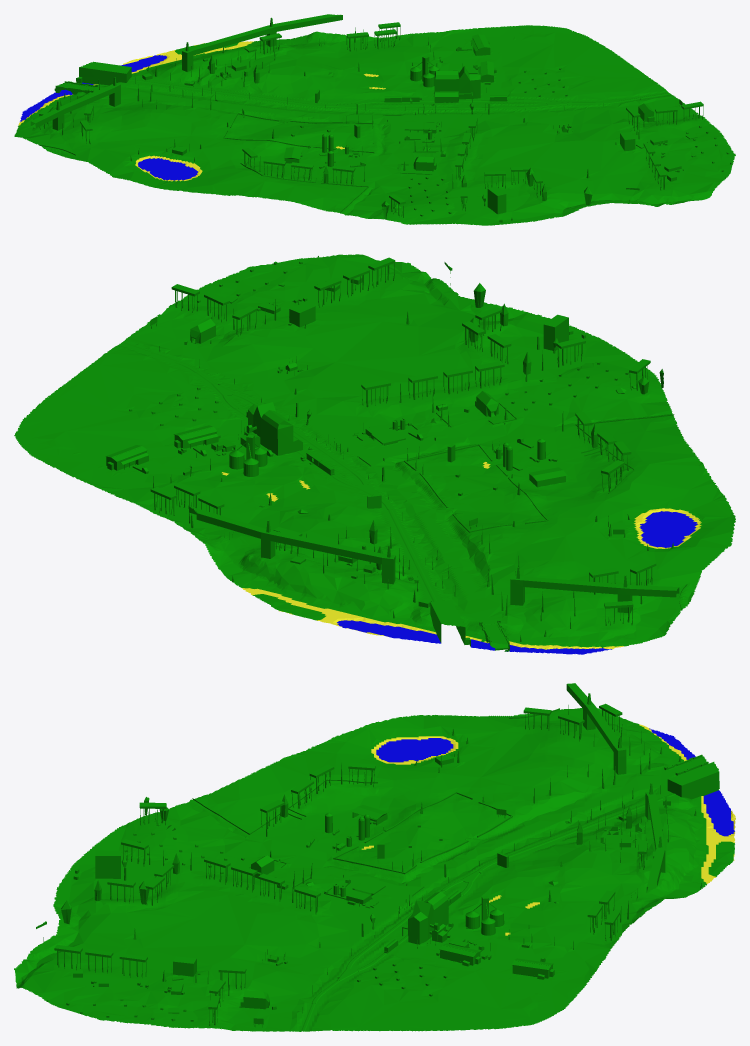
The model's file is preopt.obj.
3 renders of one model, top to bottom at view 1: azimuth 30°, elevation 25°; view 2: azimuth 150°, elevation 25°; view 3: azimuth 270°, elevation 25°, orthographic. The views are drawn at different scales.
Visible parts, largest first — view 1: ground, deepwater, water; view 2: ground, deepwater, water; view 3: ground, deepwater, water.
Boxes of the visible parts, left/top/right/bottom form: ground: left=14, top=14, right=735, bottom=225; deepwater: left=20, top=55, right=197, bottom=180; water: left=18, top=41, right=385, bottom=181; ground: left=14, top=254, right=735, bottom=651; deepwater: left=337, top=511, right=697, bottom=654; water: left=222, top=462, right=701, bottom=649; ground: left=14, top=683, right=734, bottom=1031; deepwater: left=376, top=728, right=734, bottom=836; water: left=361, top=724, right=735, bottom=935.
Bounding box in the file's own units: 620 × 42.36 × 582.
